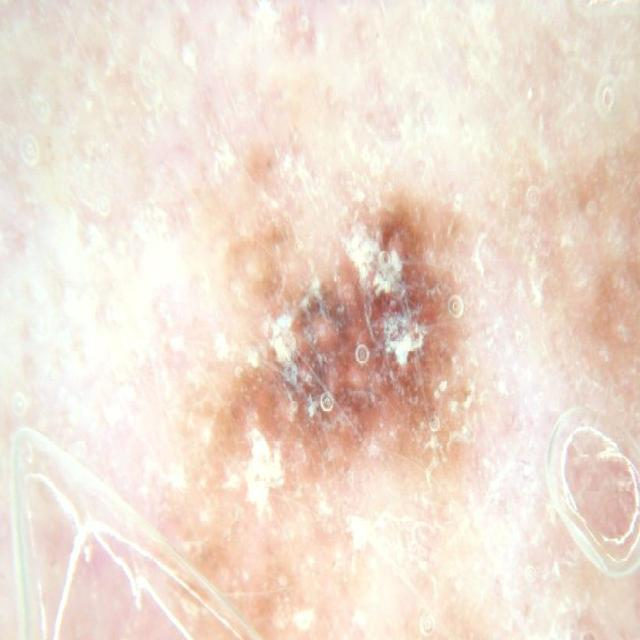Melanoma: (172, 172, 507, 514)
